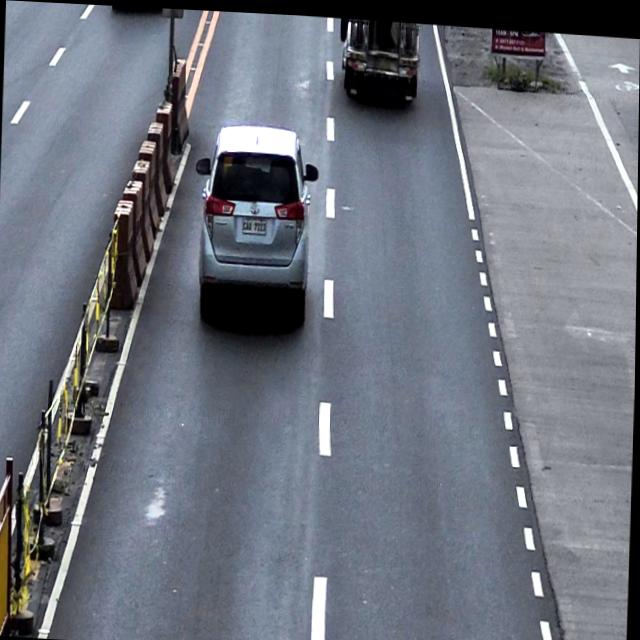Car: (191, 117, 320, 325)
Jeep: (338, 14, 419, 101)
License-Plate: (241, 212, 268, 234)
